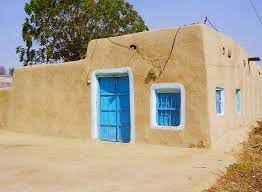Mud House: (10, 18, 256, 154)
